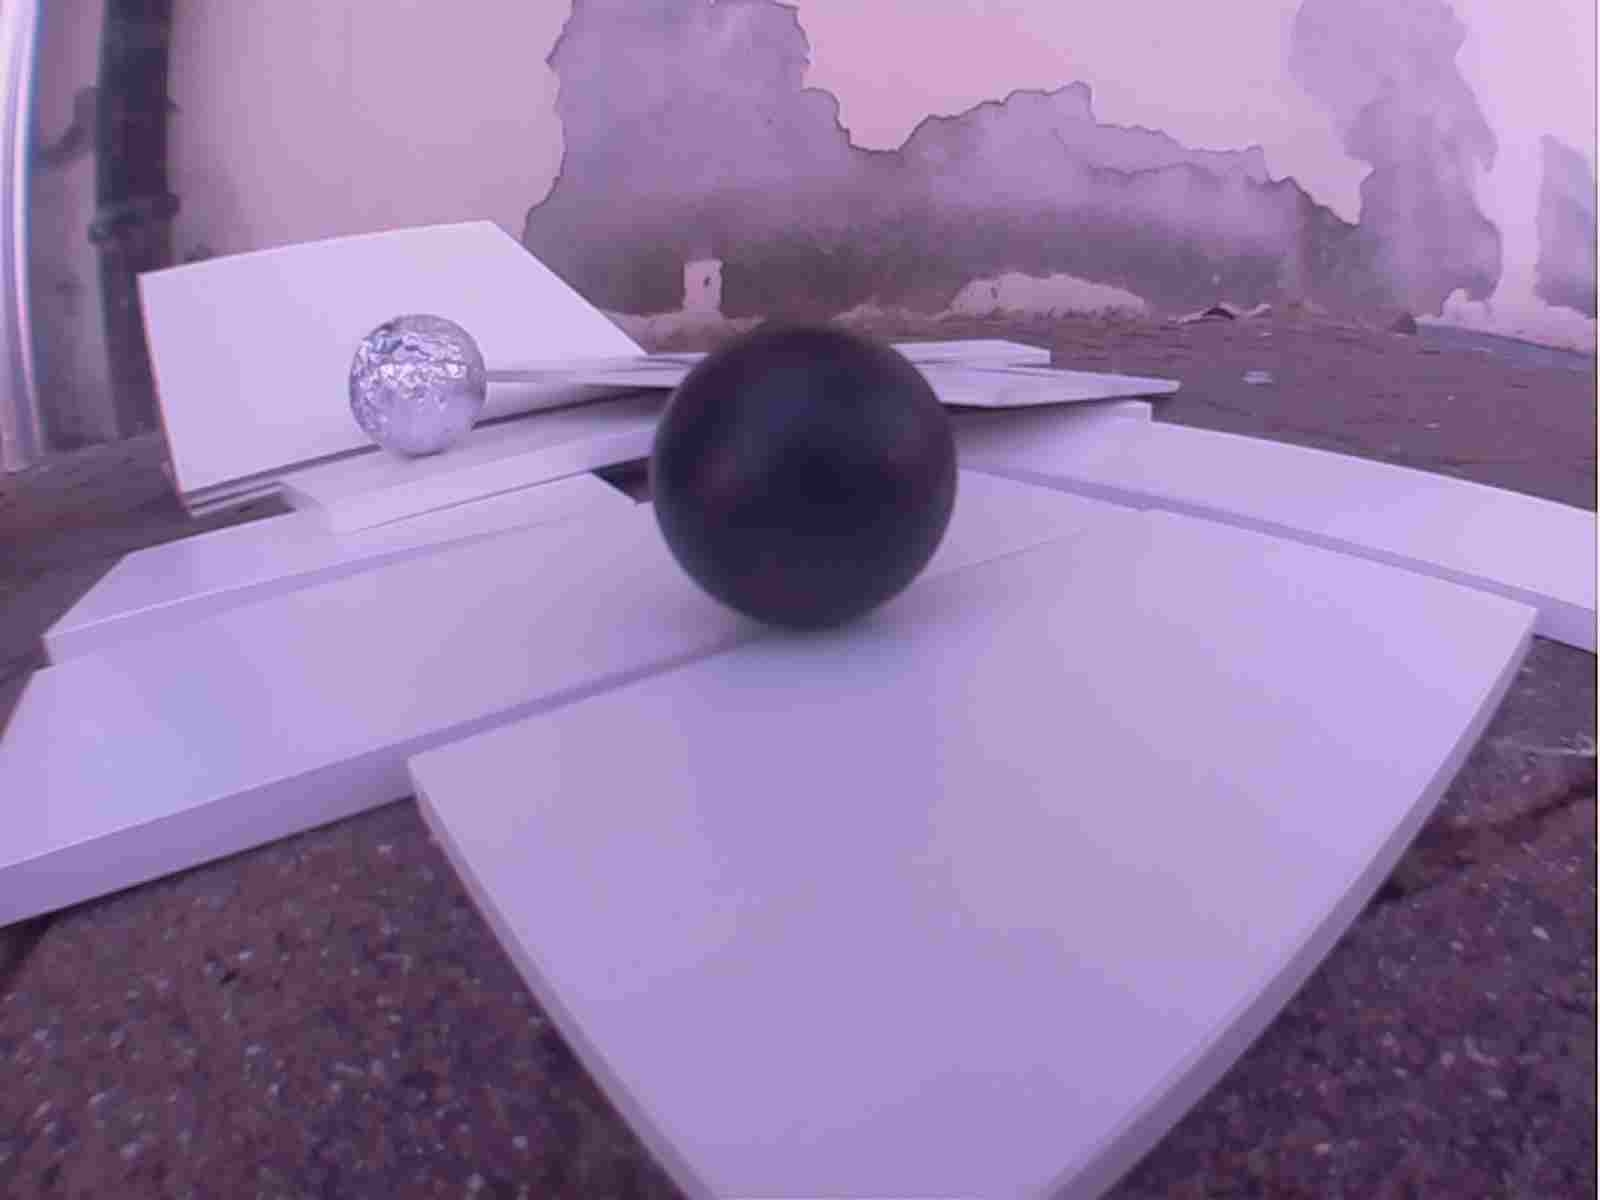bianca: (343, 310, 491, 464)
nera: (653, 321, 964, 634)
